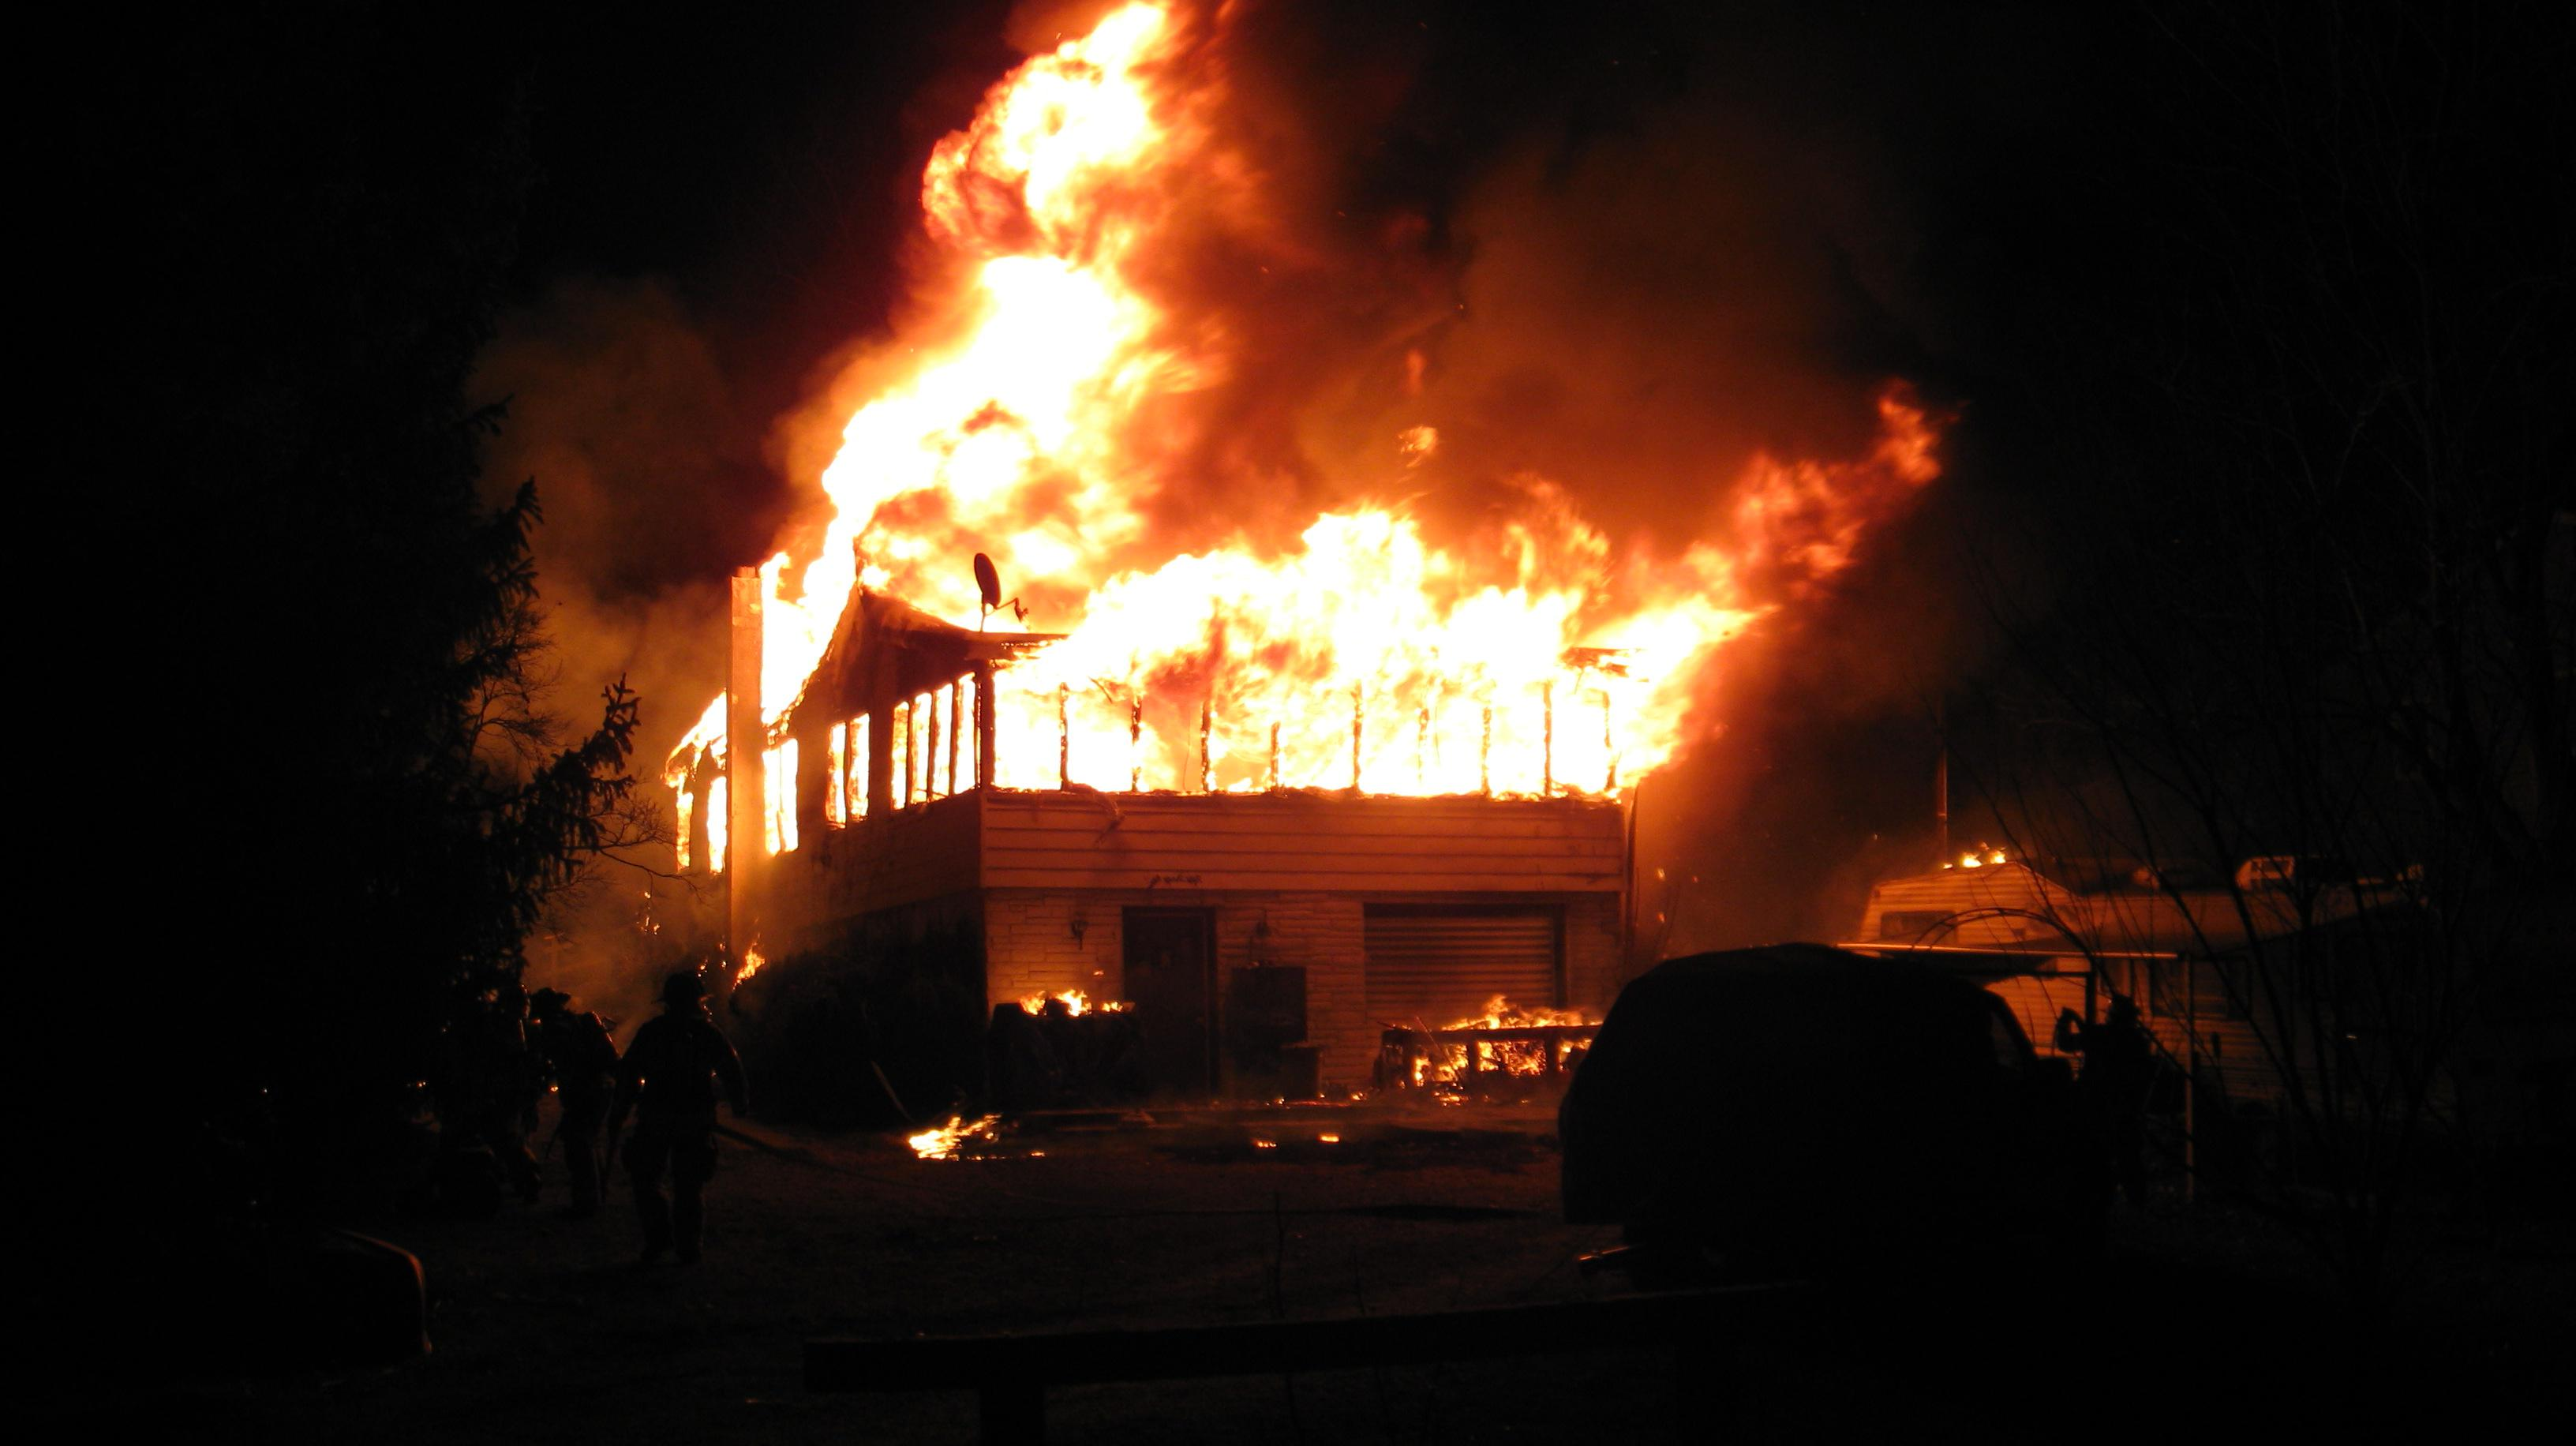fire: (619, 14, 1962, 832)
